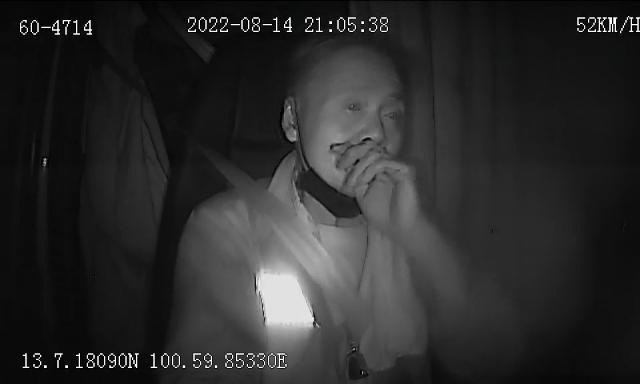SafeDriving: (377, 98, 408, 128), (338, 92, 369, 117)
Seatbelt: (213, 158, 373, 348)
